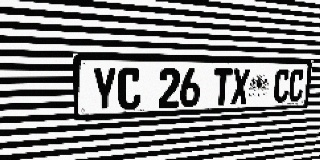2: (158, 68, 180, 108)
6: (179, 68, 201, 107)
C: (117, 67, 141, 110), (273, 69, 291, 103), (288, 69, 305, 102)
T: (212, 68, 232, 106)
X: (230, 68, 250, 105)
Y: (91, 67, 117, 112)
